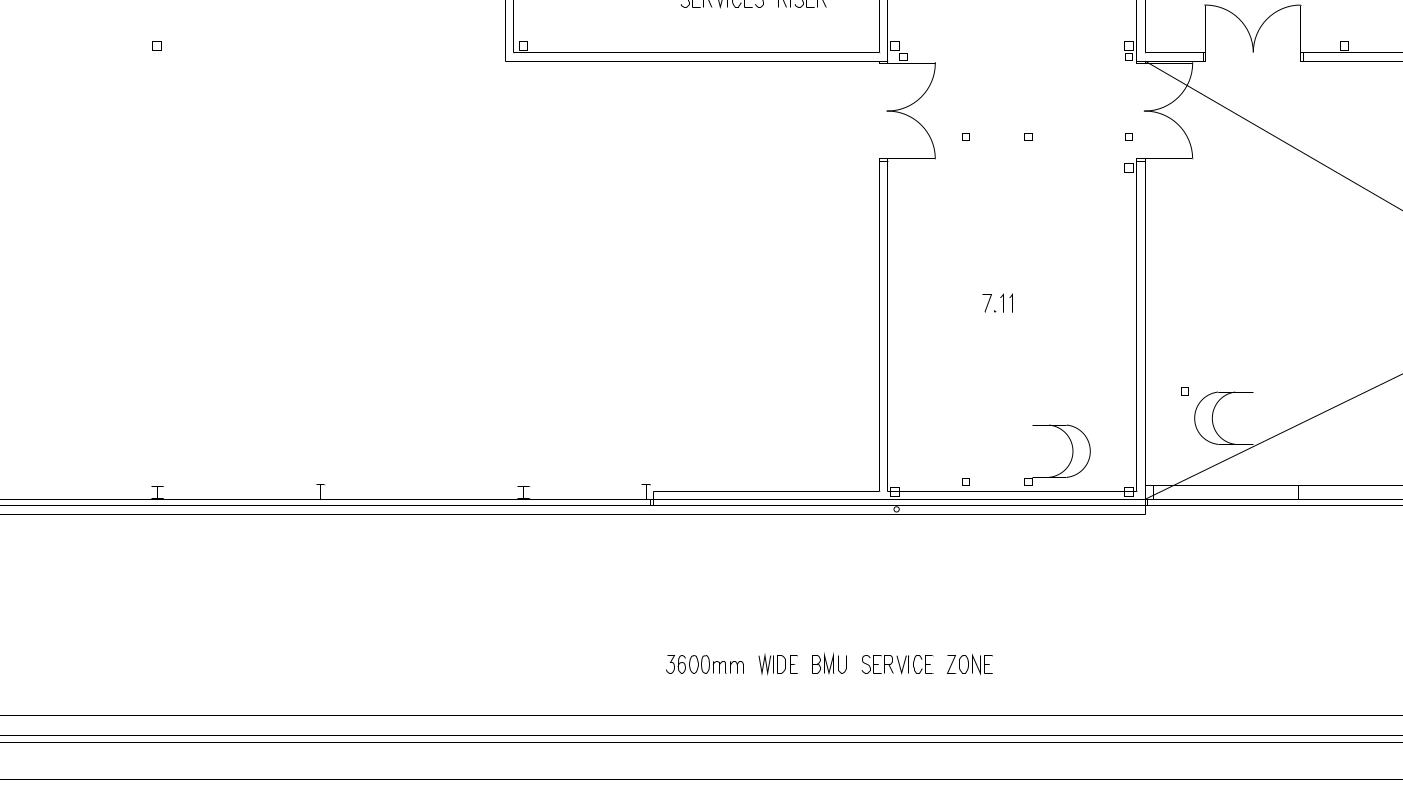door: (1200, 1, 1252, 61), (1251, 1, 1303, 61), (882, 61, 938, 111), (882, 111, 938, 161), (1140, 110, 1196, 160), (1140, 60, 1196, 110)
